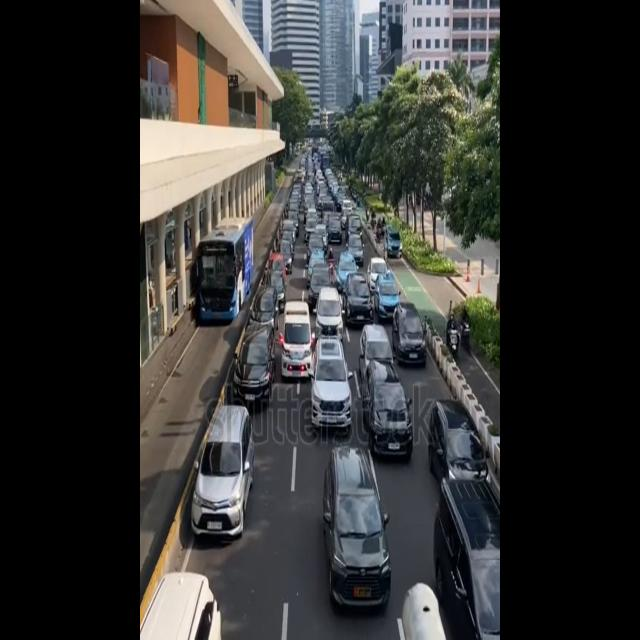Ambulance: (277, 295, 316, 383)
